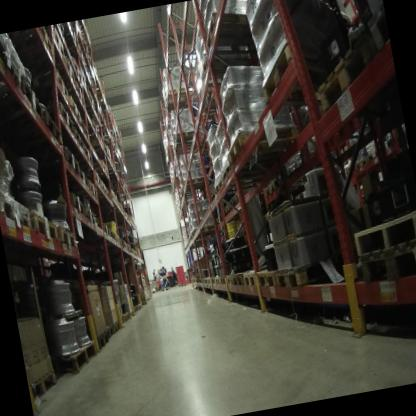pallet: (251, 30, 351, 121), (309, 41, 373, 115), (342, 201, 416, 258), (223, 122, 303, 169), (273, 250, 349, 297), (353, 241, 416, 290), (194, 48, 261, 94), (197, 5, 260, 53), (0, 71, 46, 126), (0, 175, 38, 240), (10, 25, 59, 73), (261, 167, 313, 208), (55, 336, 102, 377), (222, 155, 286, 184), (361, 2, 390, 64), (31, 67, 75, 106), (0, 33, 25, 93), (215, 169, 270, 195), (58, 184, 89, 222), (32, 205, 62, 243), (31, 365, 64, 399), (197, 82, 229, 115), (61, 141, 84, 183), (54, 218, 77, 256), (51, 97, 75, 133), (44, 26, 70, 56), (172, 139, 204, 160), (169, 124, 200, 145), (67, 92, 85, 128), (162, 80, 194, 100), (378, 134, 405, 157), (44, 116, 64, 147), (256, 270, 283, 292), (57, 57, 77, 86), (82, 199, 100, 231), (189, 219, 219, 238), (180, 173, 210, 192), (242, 266, 265, 289), (362, 141, 382, 167), (73, 121, 87, 155), (94, 84, 111, 111), (179, 183, 211, 197), (88, 159, 109, 180), (94, 329, 112, 351), (85, 138, 98, 168), (76, 24, 92, 48), (87, 175, 103, 199), (231, 268, 248, 290), (80, 165, 93, 193), (97, 129, 115, 149), (91, 164, 105, 187), (73, 61, 85, 85), (104, 322, 117, 342), (217, 270, 230, 289), (96, 219, 109, 238), (354, 153, 368, 170), (104, 163, 118, 179), (91, 72, 102, 92), (107, 189, 118, 209), (224, 273, 236, 290), (228, 192, 239, 210), (76, 89, 87, 107), (231, 188, 246, 201), (222, 198, 233, 215), (112, 230, 122, 246), (101, 181, 109, 199), (214, 212, 225, 223), (131, 301, 139, 316), (213, 273, 222, 286), (113, 320, 122, 331), (210, 275, 217, 289), (119, 312, 126, 326), (119, 237, 127, 249), (123, 310, 130, 323), (108, 229, 115, 240), (137, 300, 144, 311), (128, 308, 135, 318), (206, 277, 213, 286), (177, 281, 187, 287), (162, 285, 170, 291), (205, 275, 211, 280)
